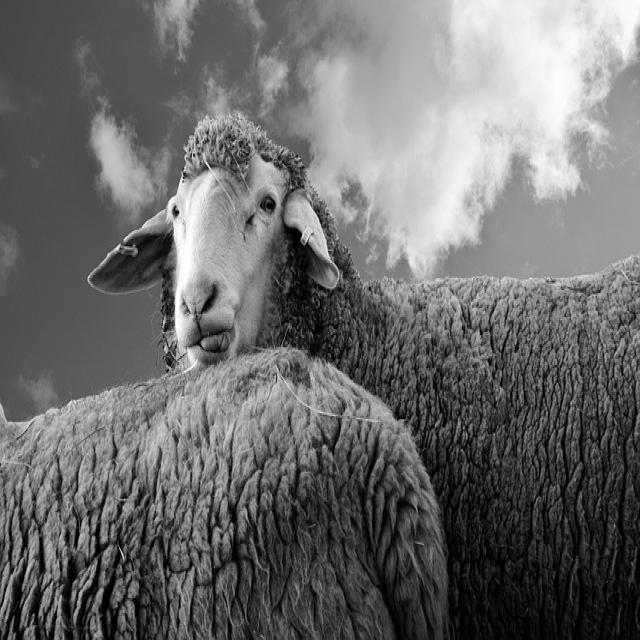goat: (88, 114, 640, 575), (0, 347, 452, 640)
